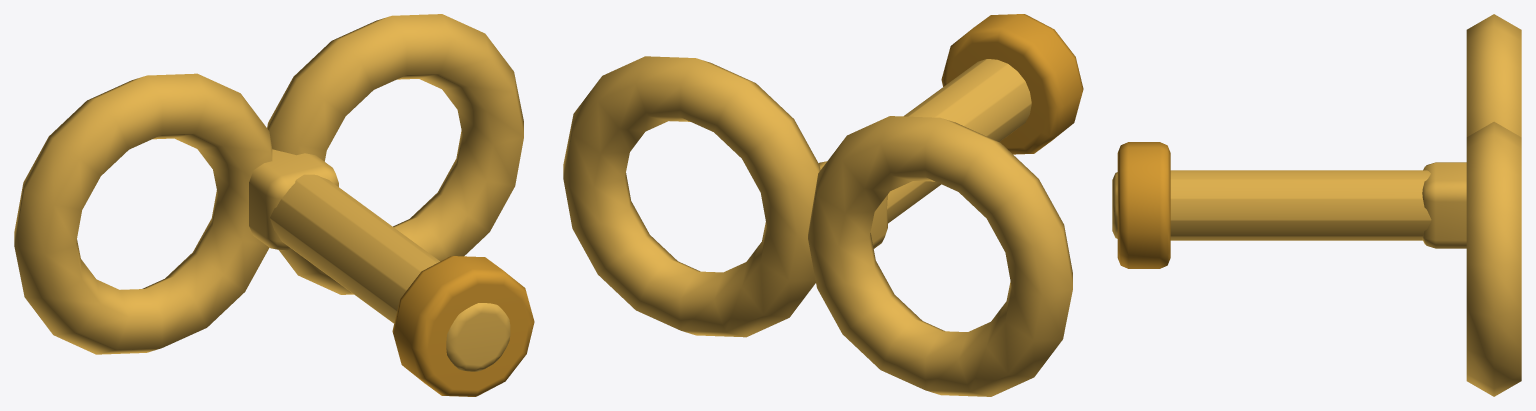
The model's file is toy_key.glb.
The picture shows the model from 3 angles, left to right: view 1: azimuth 30°, elevation 25°; view 2: azimuth 150°, elevation 25°; view 3: azimuth 270°, elevation 25°; orthographic projection. The views are drawn at different scales.
Visible parts, largest first — view 1: Key; view 2: Key; view 3: Key.
Boxes of the visible parts, x1,y1,x2,y2 form: Key: (14, 14, 534, 396); Key: (563, 14, 1083, 396); Key: (1112, 14, 1521, 396).
Bounding box in the file's own units: 0.5 × 0.26 × 0.386.
